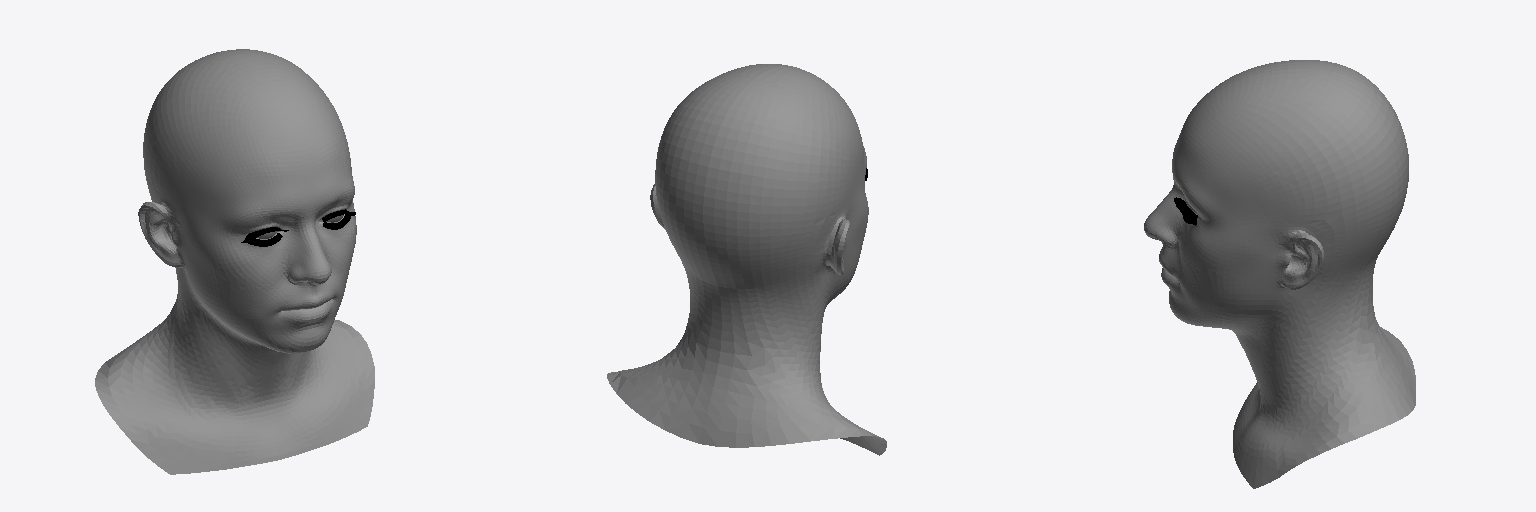
Rendered from identity087.obj.
The picture shows the model from 3 angles: view 1: azimuth 30°, elevation 25°; view 2: azimuth 150°, elevation 25°; view 3: azimuth 270°, elevation 25°; orthographic projection.
Size of the model in its own units: 24.86 by 33.84 by 22.35.